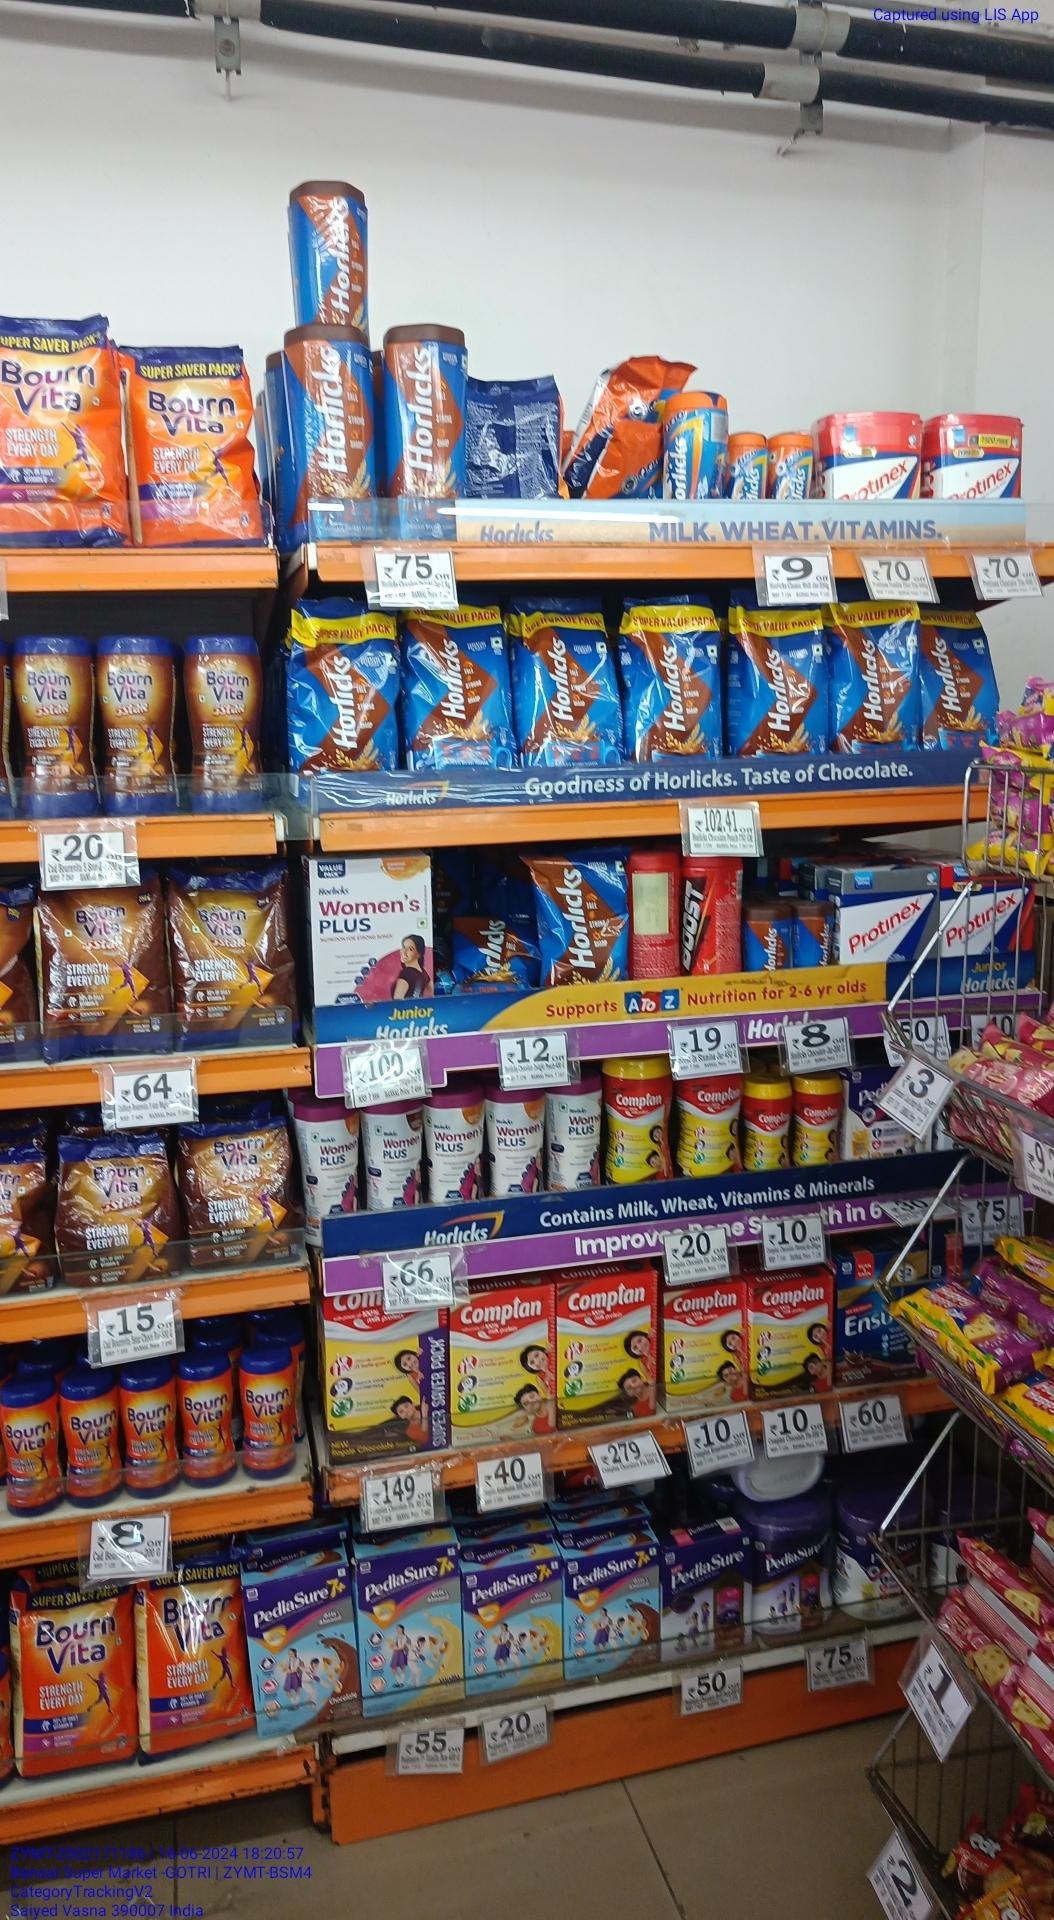COMPLAN_CHOCOLATE_200_GMS_JAR: (746, 1074, 793, 1175), (797, 1075, 844, 1164)
COMPLAN_CHOCOLATE_200_GMS_PACK: (752, 1275, 832, 1396)
COMPLAN_CHOCOLATE_500_GMS_JAR: (605, 1057, 674, 1183), (679, 1073, 741, 1178)
COMPLAN_KESAR_BADAM_200_GMS_PACK: (666, 1283, 746, 1408)
PEDIASURE_7_PLUS_CHOCOLATE_400_G_PACK: (567, 1546, 663, 1676)
